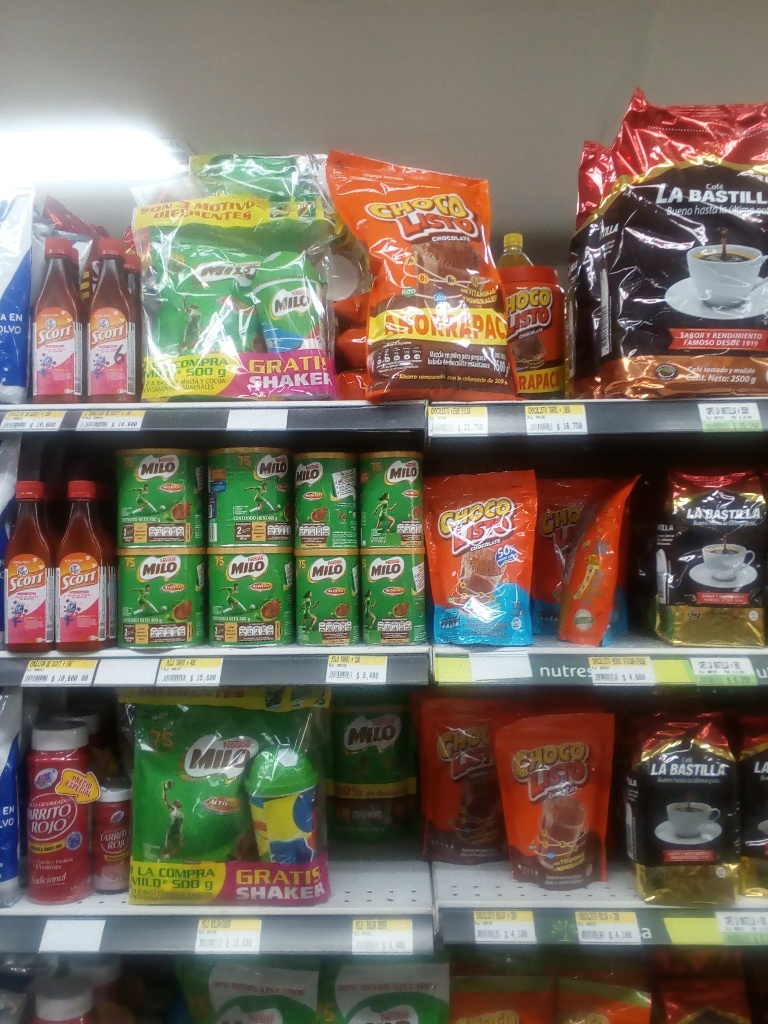COL0170103TRR00100: (501, 264, 570, 401)
COL0170104DYP20000: (431, 473, 537, 647)
COL0170203LAT20000: (361, 547, 430, 648)
COL0170203LAT40000: (209, 546, 294, 650)
